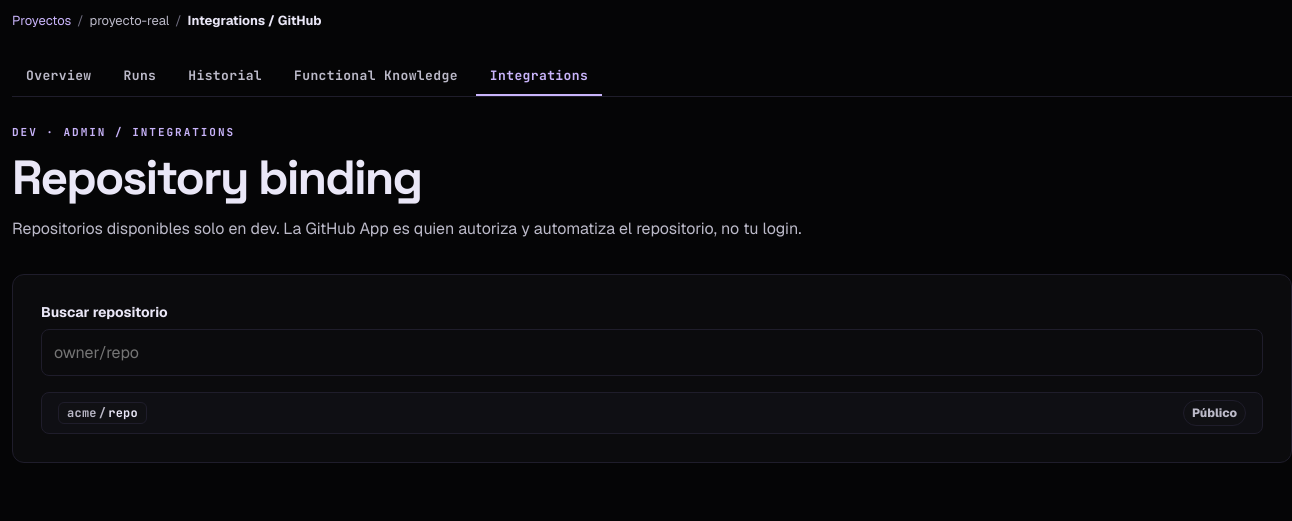
Test: HU64: en live REPOSITORY_PERMISSION_INSUFFICIENT al vincular muestra su mensaje claro con correlationId y sin el mensaje crudo de Core
Click the button "acme / repo Público".
click(102, 413)  # box [41,392,1263,434]
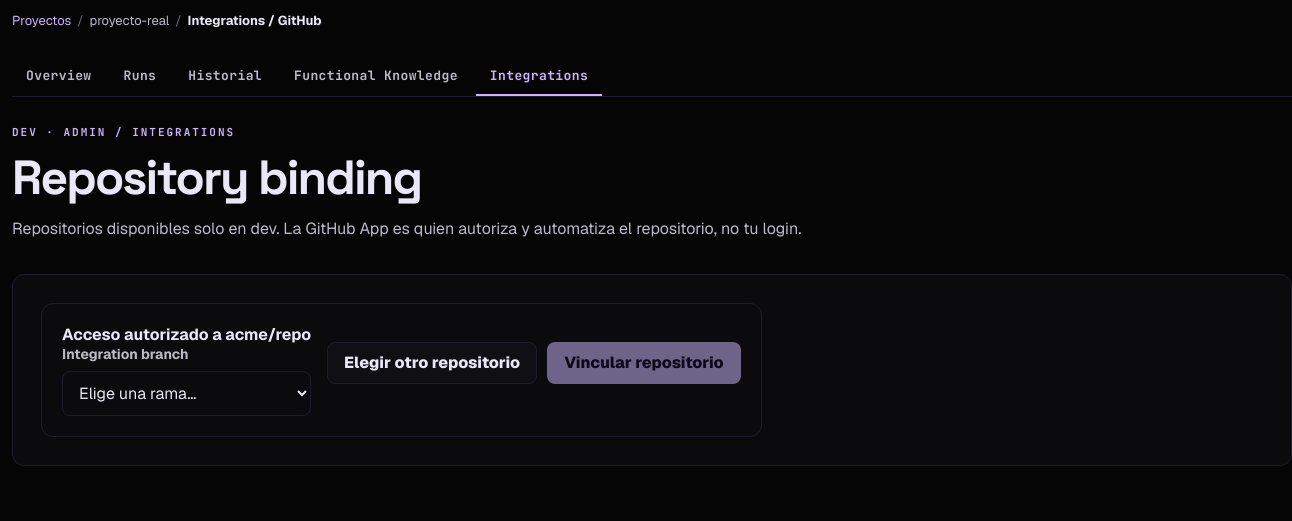
Select "main (protegida)" in the dropdown labelled "Integration branch" at (186, 393), box [62,371,311,416]
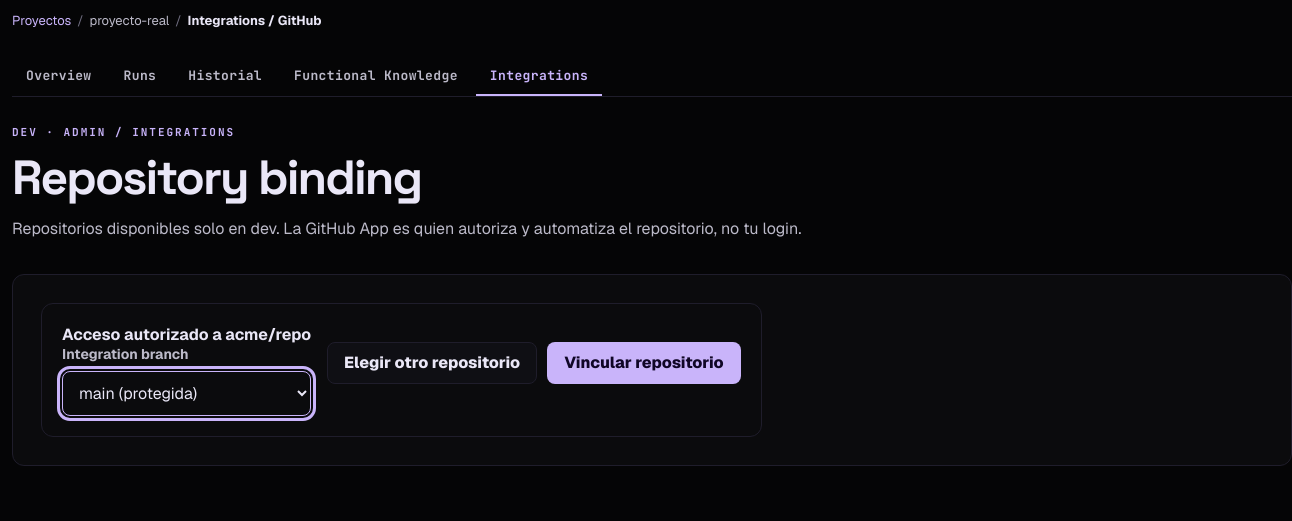
Click the button "Vincular repositorio".
click(644, 363)  # box [547,342,741,384]
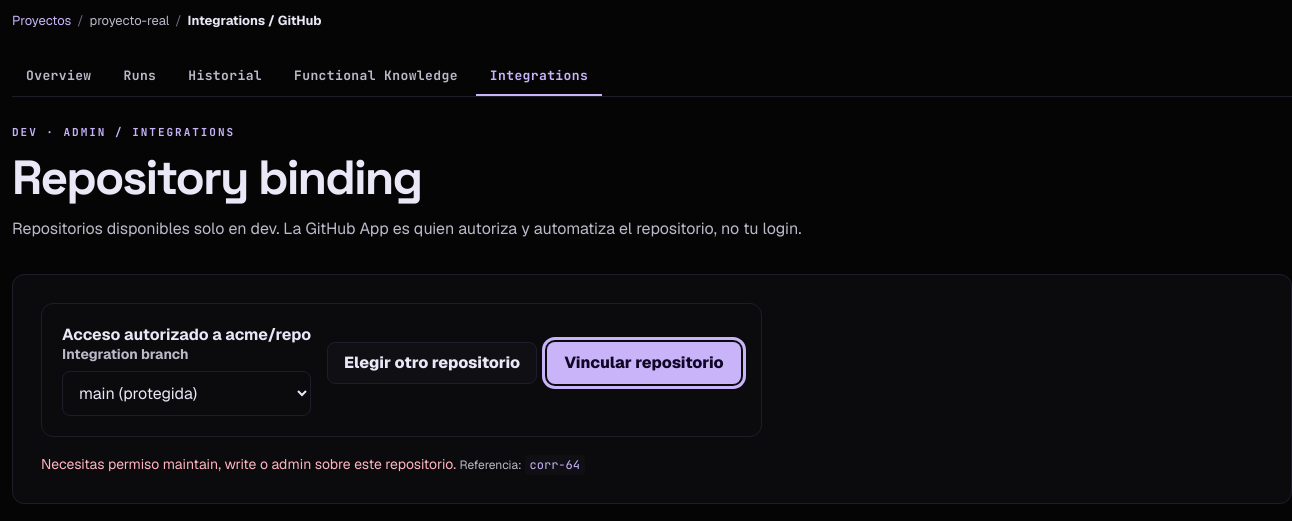
Expected: the message does not show "mensaje crudo de Core", [41,453,585,475]
Expected: the message shows "Necesitas permiso maintain, write o admin sobre este repositorio.", [41,455,456,473]
Expected: the message shows "corr-64", [530,457,580,473]
